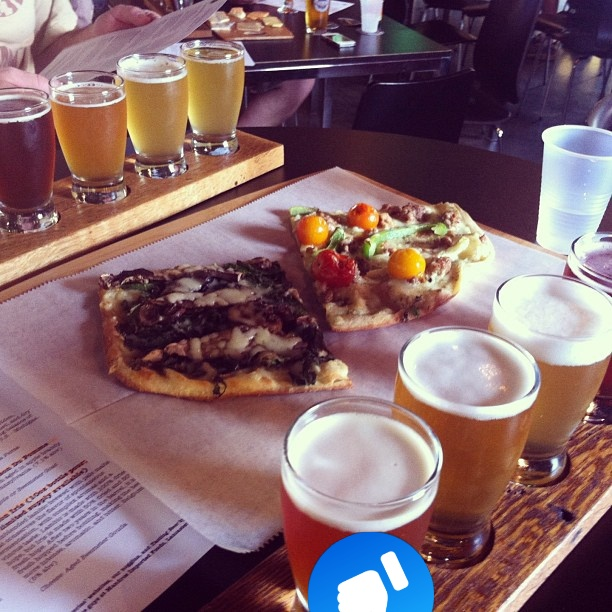like: (308, 532, 434, 612)
